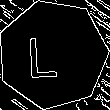L_N: (36, 28, 70, 80)
